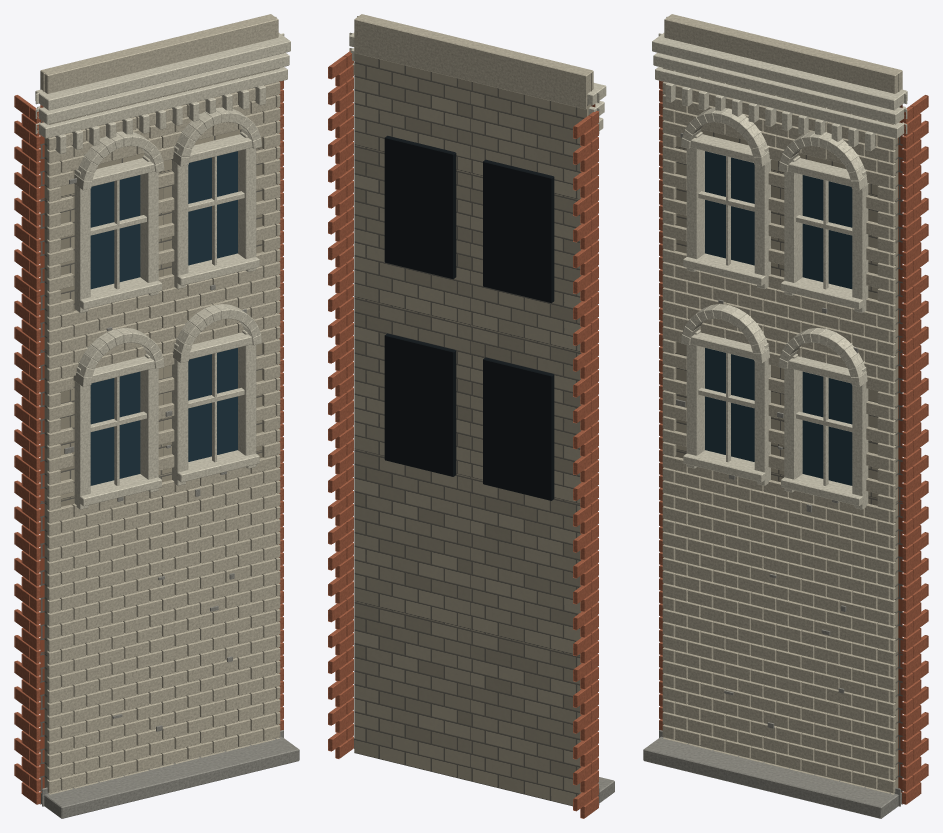
The model's file is WRHS4_lod0.glb.
The picture shows the model from 3 angles, left to right: view 1: azimuth 30°, elevation 25°; view 2: azimuth 150°, elevation 25°; view 3: azimuth 330°, elevation 25°; orthographic projection.
Parts seen in each view (by area): view 1: WRHS4_FRONT_LOD0; view 2: WRHS4_FRONT_LOD0; view 3: WRHS4_FRONT_LOD0.
Part boxes in pixels (<box>): WRHS4_FRONT_LOD0: <box>14,14,299,818</box>; WRHS4_FRONT_LOD0: <box>328,14,614,818</box>; WRHS4_FRONT_LOD0: <box>643,14,928,818</box>.
Bounding box in the file's own units: 3.44 × 9.66 × 1.02.
13 materials, 11 textured.
